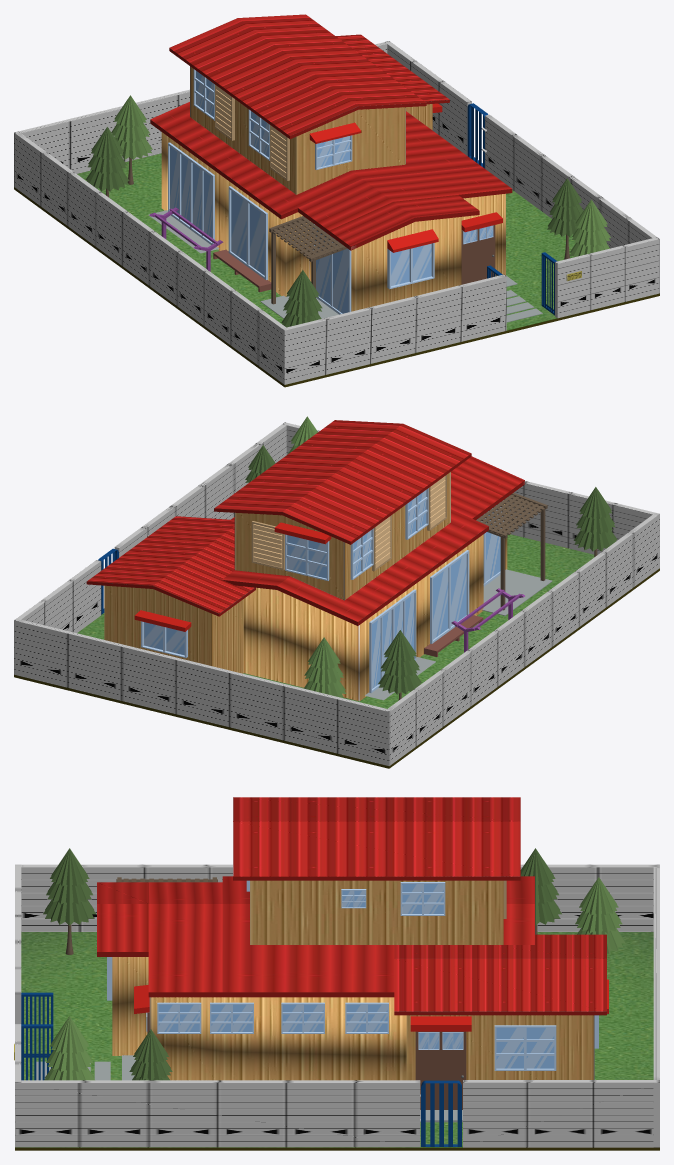
Rendered from nobita_house.glb.
The picture shows the model from 3 angles, top to bottom: view 1: azimuth 30°, elevation 25°; view 2: azimuth 150°, elevation 25°; view 3: azimuth 270°, elevation 25°; orthographic projection. The views are drawn at different scales.
Visible parts, largest first — view 1: Cube.064, Cube.016, Cube.003, Cube.004, Cube, Cube.014, Cube.075, Cube.005, Cube.002, Cube.161, Cube.074, Cube.015 (+23 smaller); view 2: Cube.064, Cube.002, Cube.003, Cube.015, Cube.014, Cube.016, Cube, Cube.075, Cube.004, Cube.074, Cube.161, Cone.011 (+18 smaller); view 3: Cube.064, Cube.075, Cube.016, Cube.015, Cube, Cube.014, Cube.074, Cube.003, Cube.055, Cone.007, Sphere.001, Cone.012 (+17 smaller).
Boxes of the visible parts, x1=… form: Cube.064: x1=169, y1=14, x2=426, y2=194; Cube.016: x1=150, y1=102, x2=512, y2=250; Cube.003: x1=14, y1=131, x2=285, y2=384; Cube.004: x1=282, y1=274, x2=506, y2=384; Cube: x1=14, y1=153, x2=659, y2=387; Cube.014: x1=161, y1=132, x2=505, y2=311; Cube.075: x1=485, y1=114, x2=658, y2=248; Cube.005: x1=555, y1=237, x2=659, y2=318; Cube.002: x1=19, y1=42, x2=387, y2=173; Cube.161: x1=228, y1=186, x2=267, y2=279; Cube.074: x1=385, y1=41, x2=471, y2=155; Cube.015: x1=336, y1=34, x2=449, y2=129; Cube.064: x1=214, y1=420, x2=471, y2=600; Cube.002: x1=14, y1=619, x2=389, y2=765; Cube.003: x1=385, y1=514, x2=659, y2=765; Cube.015: x1=86, y1=516, x2=255, y2=673; Cube.014: x1=243, y1=504, x2=507, y2=701; Cube.016: x1=222, y1=456, x2=524, y2=625; Cube: x1=14, y1=534, x2=659, y2=768; Cube.075: x1=114, y1=423, x2=286, y2=557; Cube.004: x1=507, y1=481, x2=659, y2=554; Cube.074: x1=14, y1=560, x2=101, y2=632; Cube.161: x1=430, y1=550, x2=469, y2=643; Cone.011: x1=378, y1=630, x2=421, y2=694; Cube.064: x1=233, y1=797, x2=520, y2=944; Cube.075: x1=15, y1=1080, x2=420, y2=1147; Cube.016: x1=97, y1=876, x2=534, y2=997; Cube.015: x1=394, y1=934, x2=606, y2=1080; Cube: x1=15, y1=932, x2=659, y2=1150; Cube.014: x1=112, y1=957, x2=406, y2=1080; Cube.074: x1=463, y1=1080, x2=659, y2=1147; Cube.003: x1=21, y1=864, x2=659, y2=931; Cube.055: x1=494, y1=1025, x2=556, y2=1070; Cone.007: x1=43, y1=848, x2=95, y2=925; Sphere.001: x1=415, y1=1031, x2=466, y2=1109; Cone.012: x1=575, y1=877, x2=625, y2=953.
Bounding box in the file's own units: 23.17 × 10.25 × 28.98.
30 materials, 13 textured.
